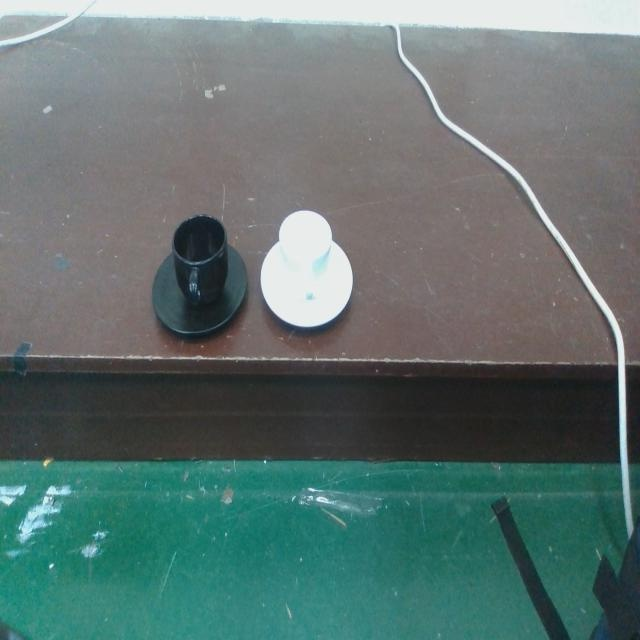black: (151, 209, 252, 341)
white: (258, 206, 354, 331)
